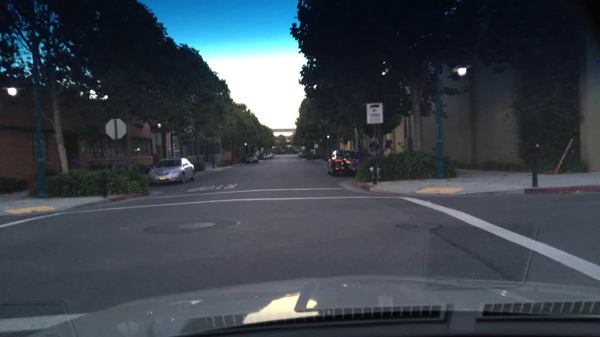car: (148, 157, 196, 188), (326, 149, 360, 177), (246, 153, 258, 163), (297, 150, 303, 157), (264, 153, 269, 160), (268, 151, 273, 157)
traffic sign: (104, 117, 126, 140), (366, 103, 383, 124)
